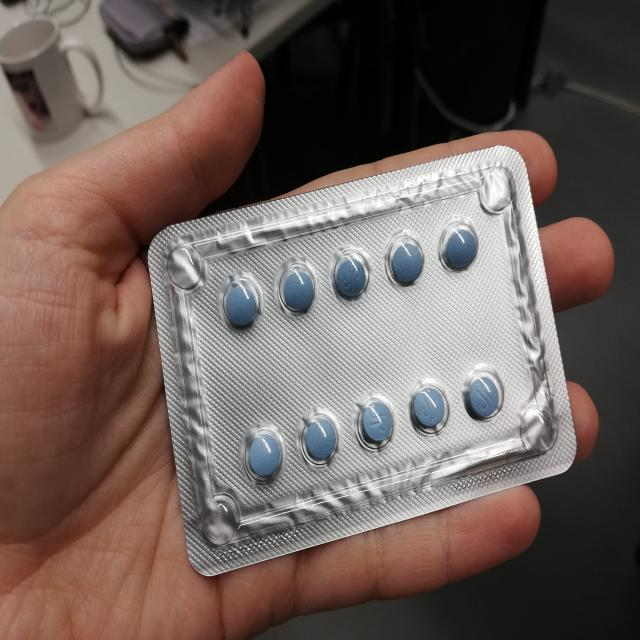Pill: (214, 259, 264, 339), (434, 213, 491, 281), (293, 406, 343, 474), (376, 228, 425, 294), (458, 361, 506, 426), (238, 428, 284, 492), (408, 380, 453, 444), (357, 390, 400, 456), (328, 245, 369, 311), (274, 261, 316, 324)
